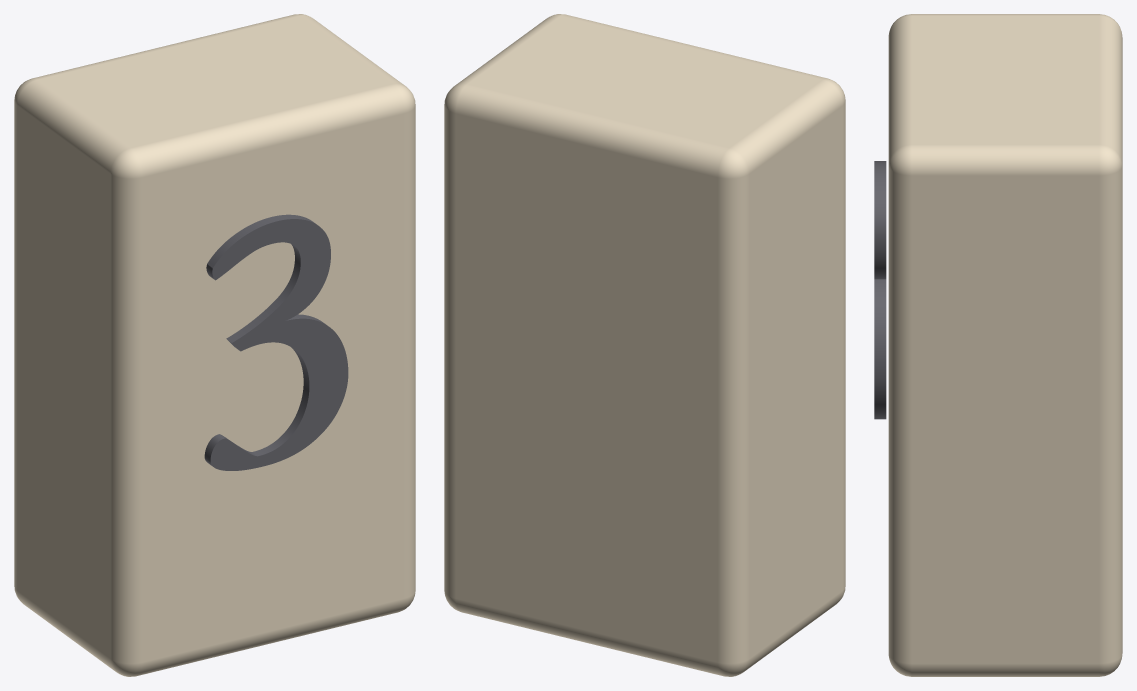
The model's file is pin_3.gltf.
The picture shows the model from 3 angles, left to right: view 1: azimuth 30°, elevation 25°; view 2: azimuth 150°, elevation 25°; view 3: azimuth 270°, elevation 25°; orthographic projection.
Parts seen in each view (by area): view 1: White, Black; view 2: White; view 3: White, Black.
Boxes of the visible parts, x1=… form: White: x1=14, y1=14, x2=415, y2=676; Black: x1=204, y1=214, x2=348, y2=470; White: x1=444, y1=14, x2=845, y2=676; White: x1=888, y1=14, x2=1122, y2=676; Black: x1=874, y1=161, x2=886, y2=419.
Size of the model in its own units: 1.5 by 2.5 by 1.06.
